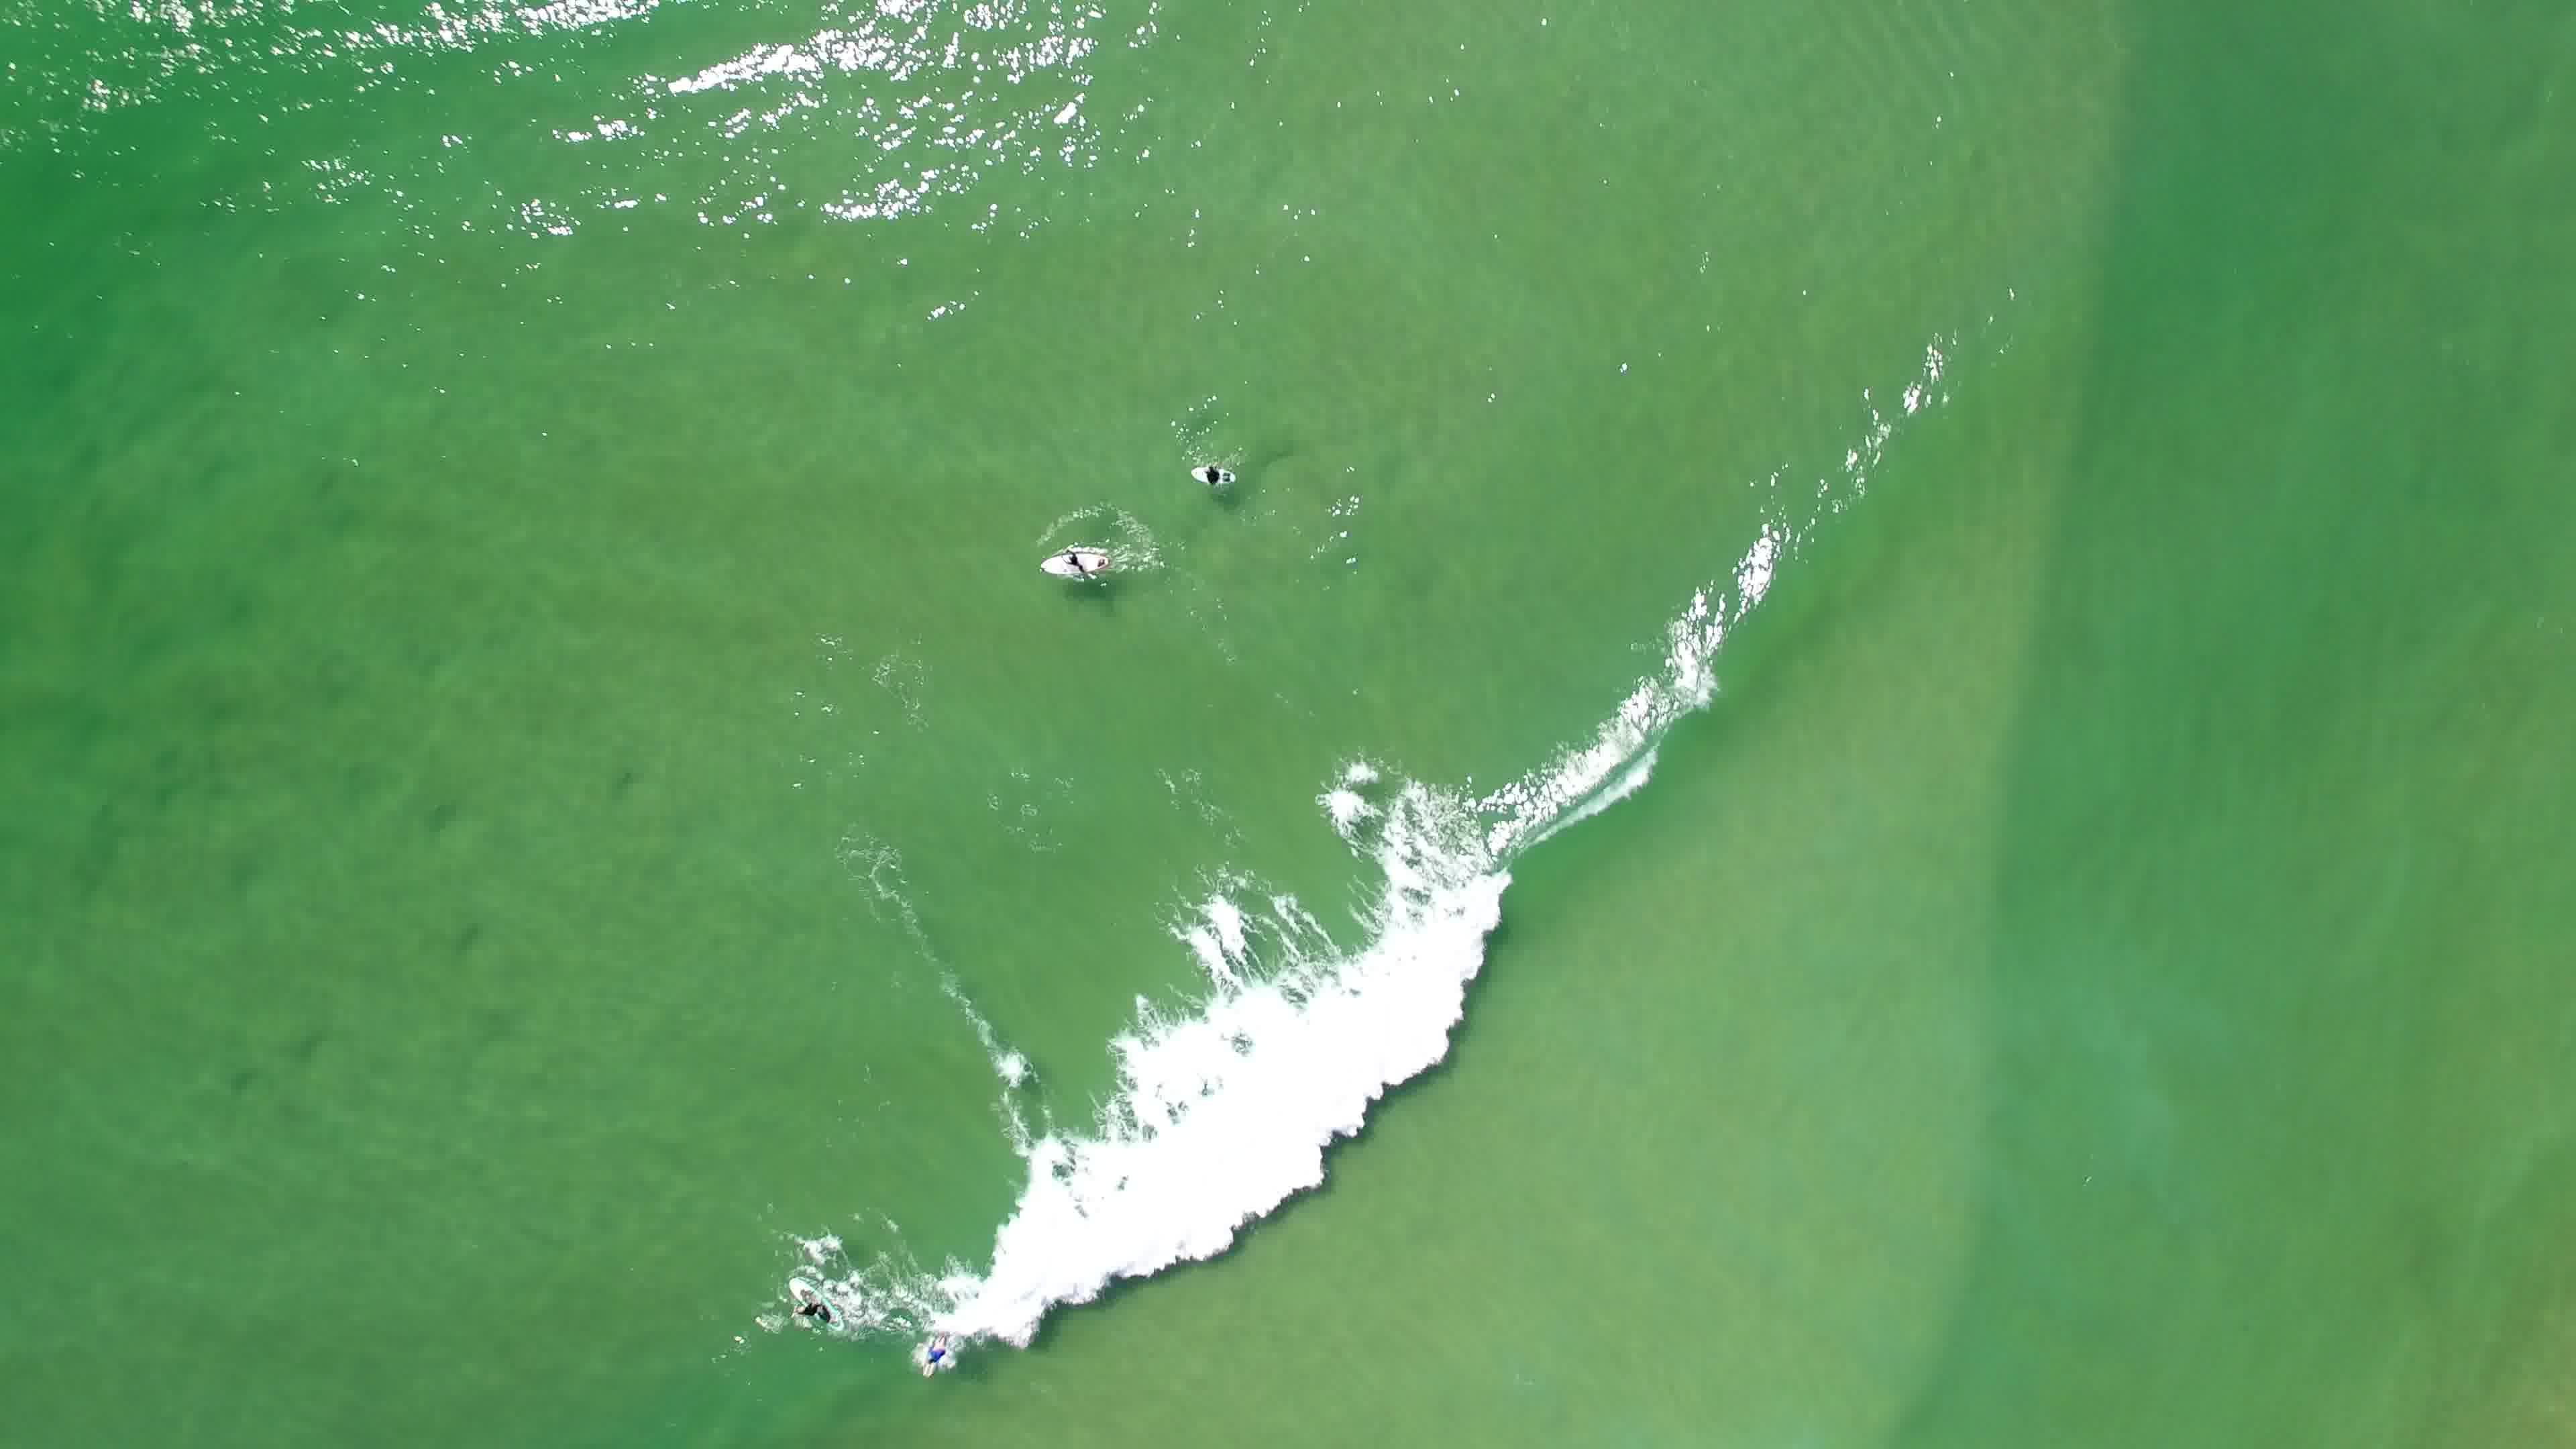surfer: (782, 1269, 858, 1343), (1035, 536, 1122, 586), (915, 1329, 955, 1384), (1185, 458, 1242, 497)
